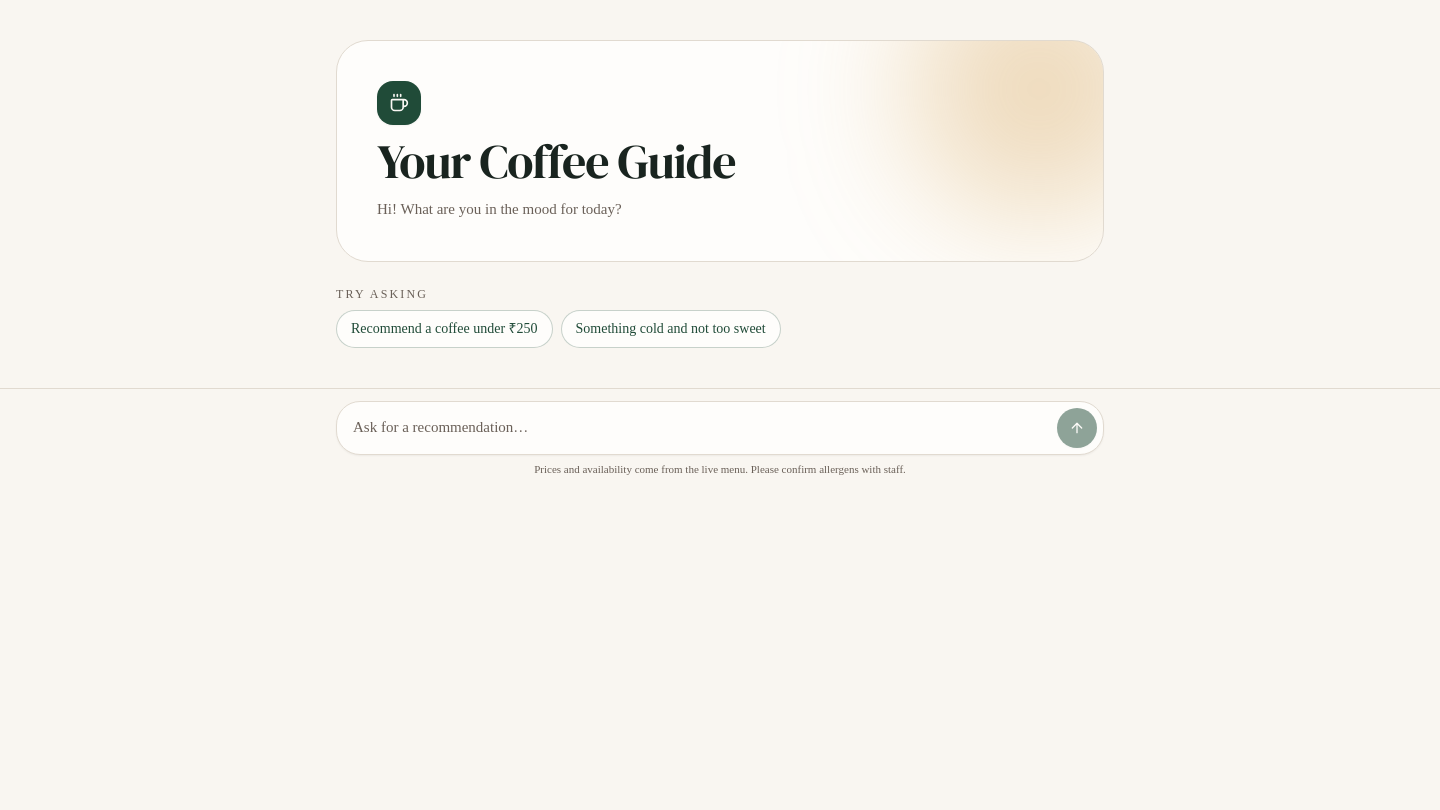
Chat › shows the welcome screen with clickable suggested prompts
Check: the heading "Your Coffee Guide" is shown, box [377, 128, 735, 194]
What coordinates should you click on to do the following:
click the button "Recommend a coffee under ₹250"
I would click on:
 (444, 329)
Its box is [336, 310, 553, 348].
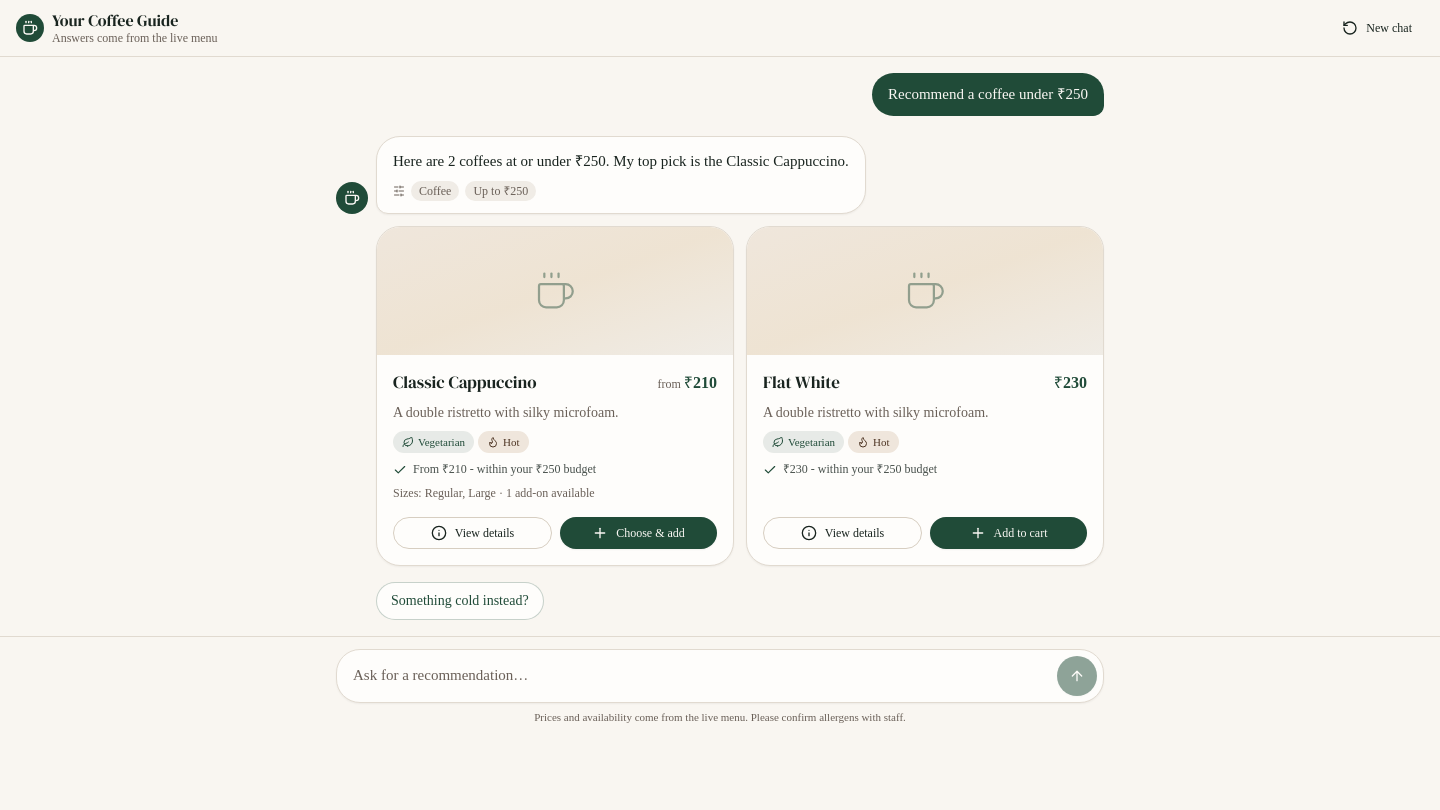
Check: the text "Recommend a coffee under ₹250" is shown, box [872, 73, 1104, 116]
Check: the text "My top pick is the Classic Cappuccino" is shown, box [393, 152, 849, 168]
